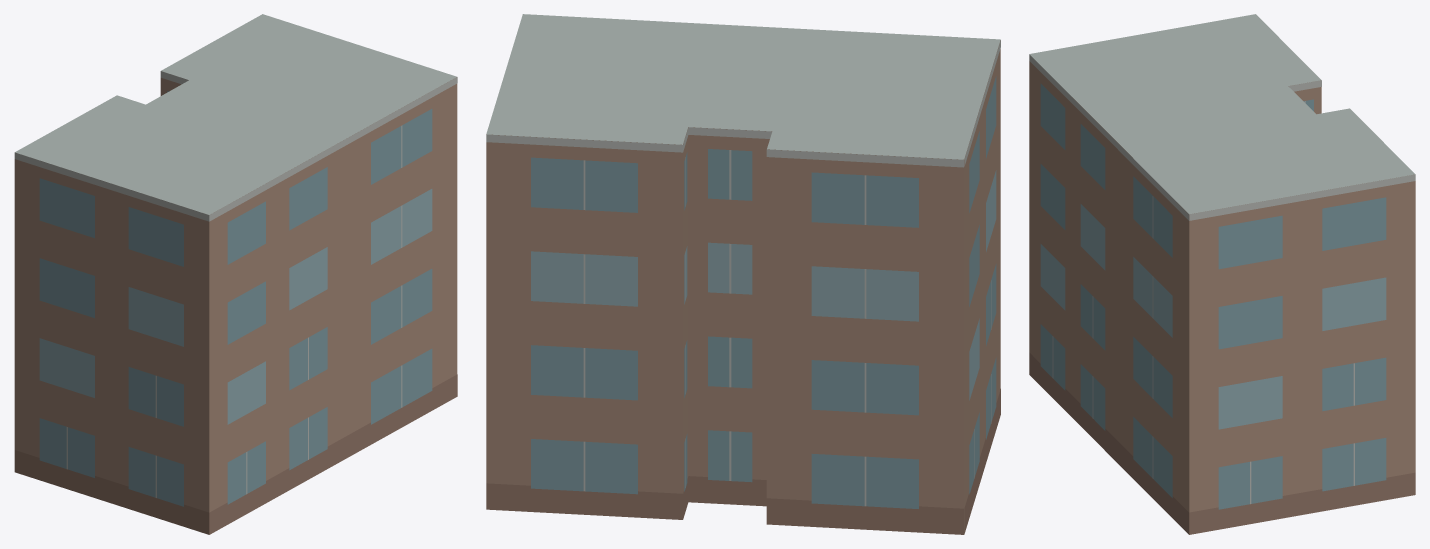
The model's file is survey-upis-32747006.glb.
3 renders of one model, left to right at view 1: azimuth 30°, elevation 25°; view 2: azimuth 150°, elevation 25°; view 3: azimuth 270°, elevation 25°, orthographic. The views are drawn at different scales.
Parts seen in each view (by area): view 1: survey-upis-32747006.tmp; view 2: survey-upis-32747006.tmp; view 3: survey-upis-32747006.tmp.
Part boxes in pixels (x1,y1,x2,y2): survey-upis-32747006.tmp: [14, 14, 457, 534]; survey-upis-32747006.tmp: [486, 14, 1000, 534]; survey-upis-32747006.tmp: [1029, 14, 1415, 534].
Bounding box in the file's own units: 15.82 × 11.8 × 12.9.
